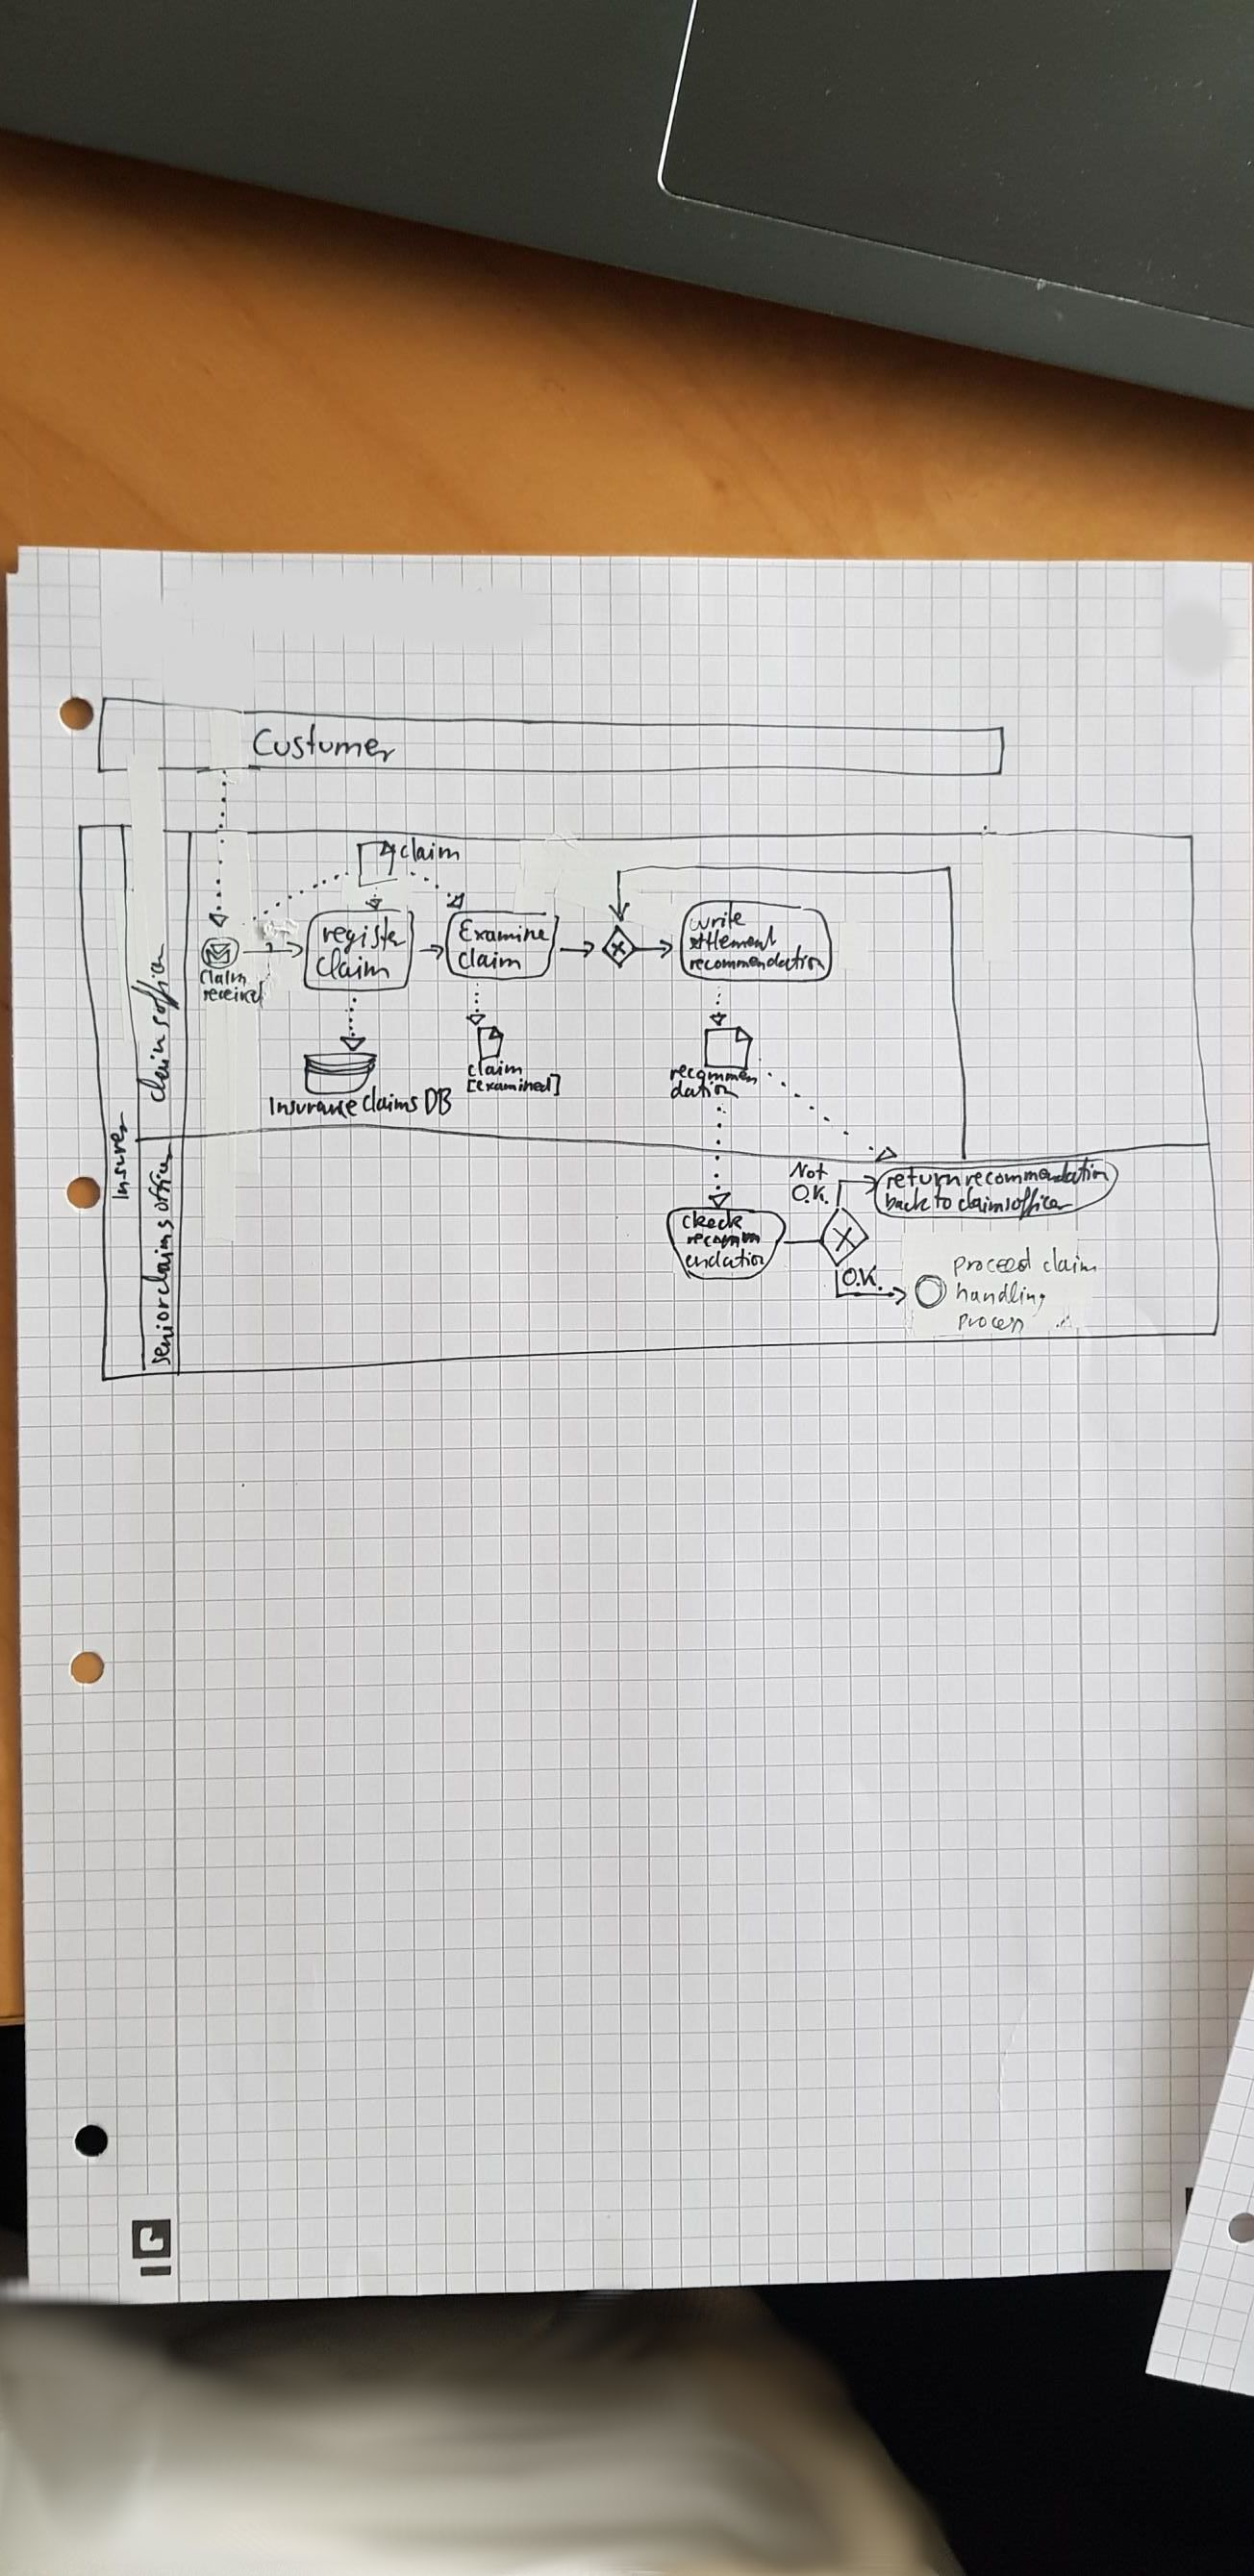Claim: (194, 966, 253, 991)
Custumer: (245, 716, 404, 769)
DB: (419, 1081, 459, 1122)
Examine: (454, 913, 556, 948)
Insurance: (263, 1091, 363, 1124)
Insurer: (104, 1106, 136, 1207)
Not: (782, 1157, 833, 1186)
O.K.: (837, 1260, 889, 1298), (787, 1180, 833, 1209)
[examined]: (460, 1069, 565, 1102)
back: (879, 1181, 935, 1217)
check: (677, 1204, 749, 1234)
claim: (309, 943, 396, 987), (394, 831, 467, 867), (1037, 1242, 1103, 1281), (452, 943, 528, 974), (462, 1053, 529, 1083)
claims: (131, 1010, 174, 1107), (136, 1214, 177, 1301), (357, 1081, 426, 1119), (953, 1181, 1016, 1216)
dation: (666, 1076, 745, 1106)
endation: (680, 1244, 769, 1275)
ettlement: (685, 920, 782, 956)
handling: (950, 1275, 1052, 1322)
officer: (123, 938, 186, 1019), (1007, 1181, 1080, 1226), (143, 1140, 177, 1216)
proceed: (948, 1240, 1037, 1281)
process: (952, 1306, 1030, 1339)
received: (196, 974, 271, 1010)
recomm: (680, 1227, 768, 1253)
recommen: (664, 1058, 764, 1091)
recommendatin: (684, 940, 832, 977)
recommendation: (958, 1152, 1114, 1191)
register: (317, 912, 411, 961)
return: (881, 1162, 968, 1194)
senior: (143, 1291, 182, 1370)
to: (929, 1181, 957, 1216)
write: (684, 895, 751, 936)
